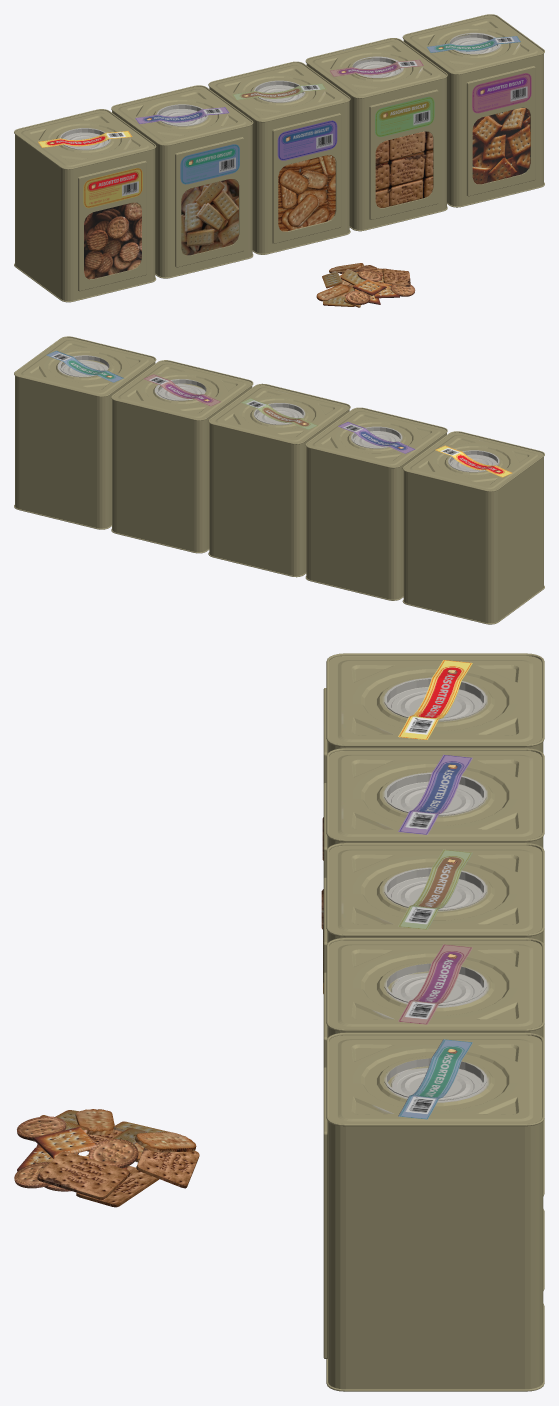
Rendered from M066_BiscuitTins.fbx.
3 views of the same model, one above another, from view 1: azimuth 30°, elevation 25°; view 2: azimuth 150°, elevation 25°; view 3: azimuth 270°, elevation 25° (orthographic). The views are drawn at different scales.
Parts seen in each view (by area): view 1: Biscuits; view 2: Biscuits; view 3: Biscuits.
Boxes of the visible parts, x1,y1,x2,y2 form: Biscuits: (14,14,544,307); Biscuits: (14,336,544,624); Biscuits: (14,653,544,1391).
Bounding box in the file's own units: 114 × 31.53 × 54.34.
1 material, 1 textured.
